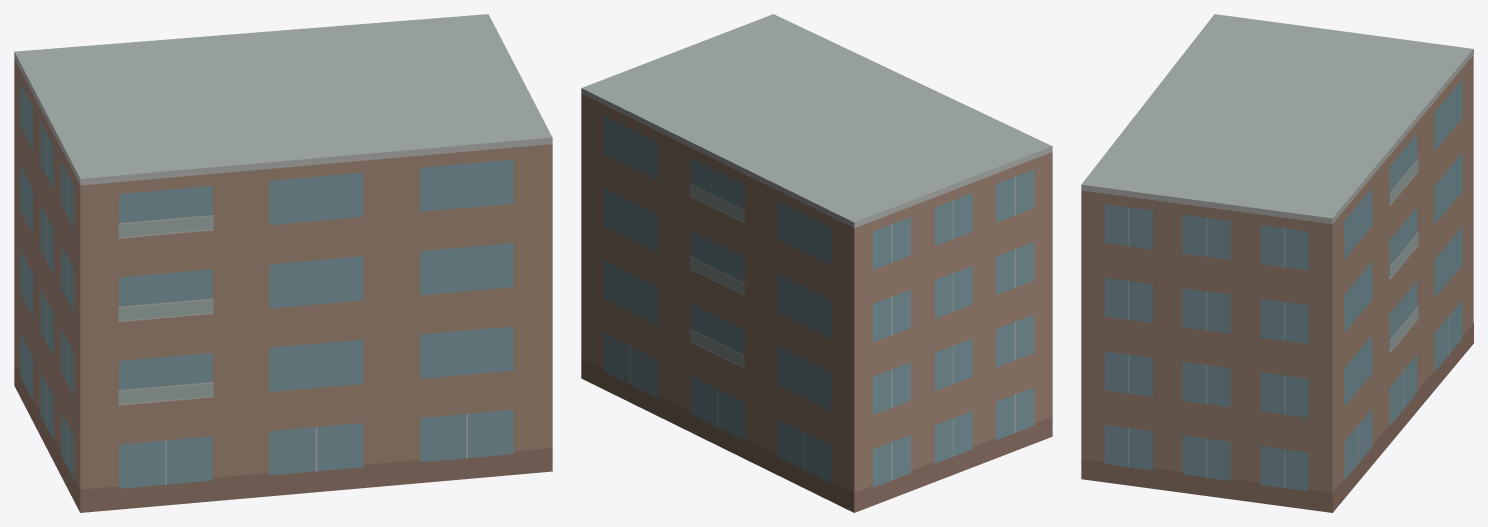
File: survey-upis-33018557.glb
3 renders of one model, left to right at view 1: azimuth 30°, elevation 25°; view 2: azimuth 150°, elevation 25°; view 3: azimuth 270°, elevation 25°, orthographic. The views are drawn at different scales.
Visible parts, largest first — view 1: survey-upis-33018557.tmp; view 2: survey-upis-33018557.tmp; view 3: survey-upis-33018557.tmp.
Part boxes in pixels (x1,y1,x2,y2): survey-upis-33018557.tmp: [14, 14, 552, 512]; survey-upis-33018557.tmp: [581, 14, 1052, 512]; survey-upis-33018557.tmp: [1081, 14, 1473, 512].
Bounding box in the file's own units: 18.47 × 12.4 × 14.99.
